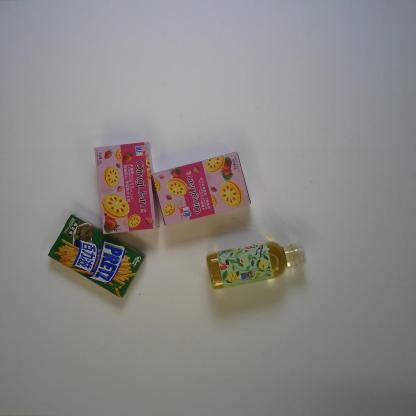Dessert: (47, 213, 146, 299), (152, 152, 252, 226), (94, 141, 160, 234)
Drink: (205, 241, 307, 290)
